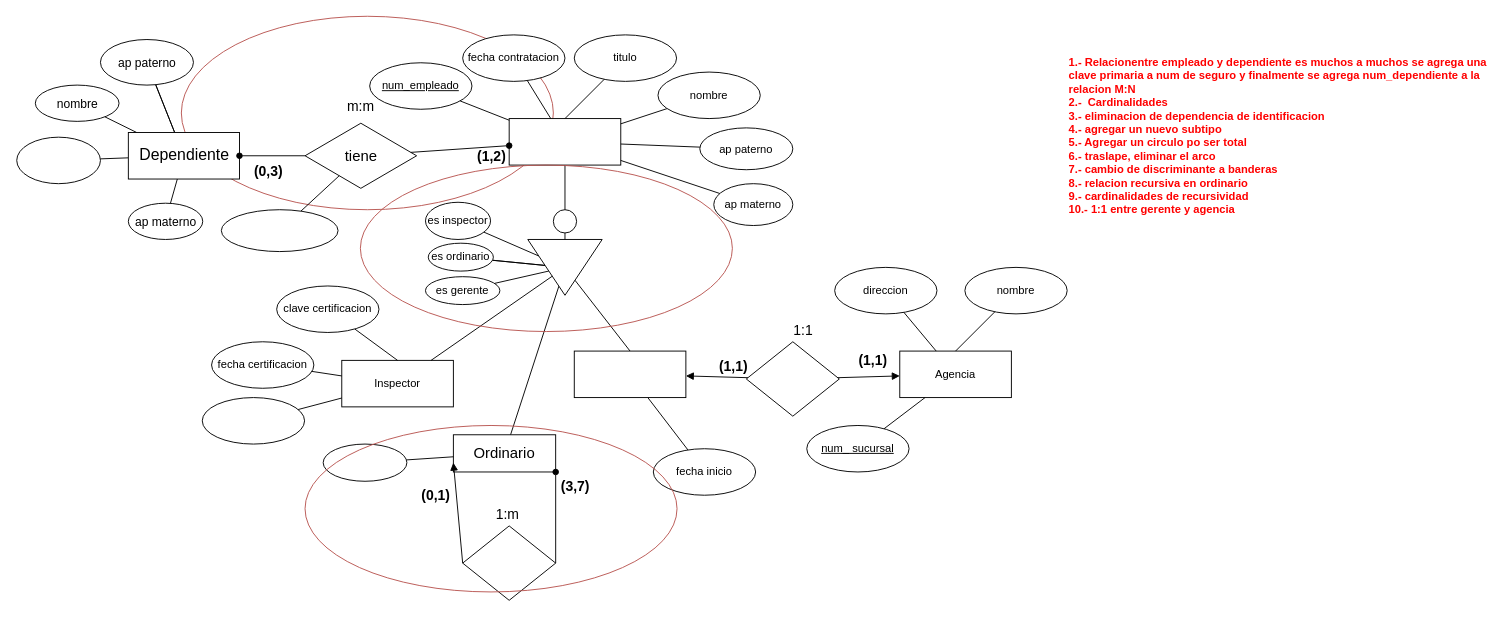
This 1510x617 diagram has some shape labels left out. The centre of each missing label's shape, as x and y in pixels:
"administra" belongs at point (792, 378).
"calificacion" belongs at point (253, 420).
"Empleado" belongs at point (564, 141).
"es" belongs at point (564, 267).
"gerente" belongs at point (629, 374).
"lidera" belongs at point (509, 562).
"Nivel especialidad" belongs at point (364, 462).
"num dependiente" belongs at point (279, 230).
"num seguro" belongs at point (58, 160).
